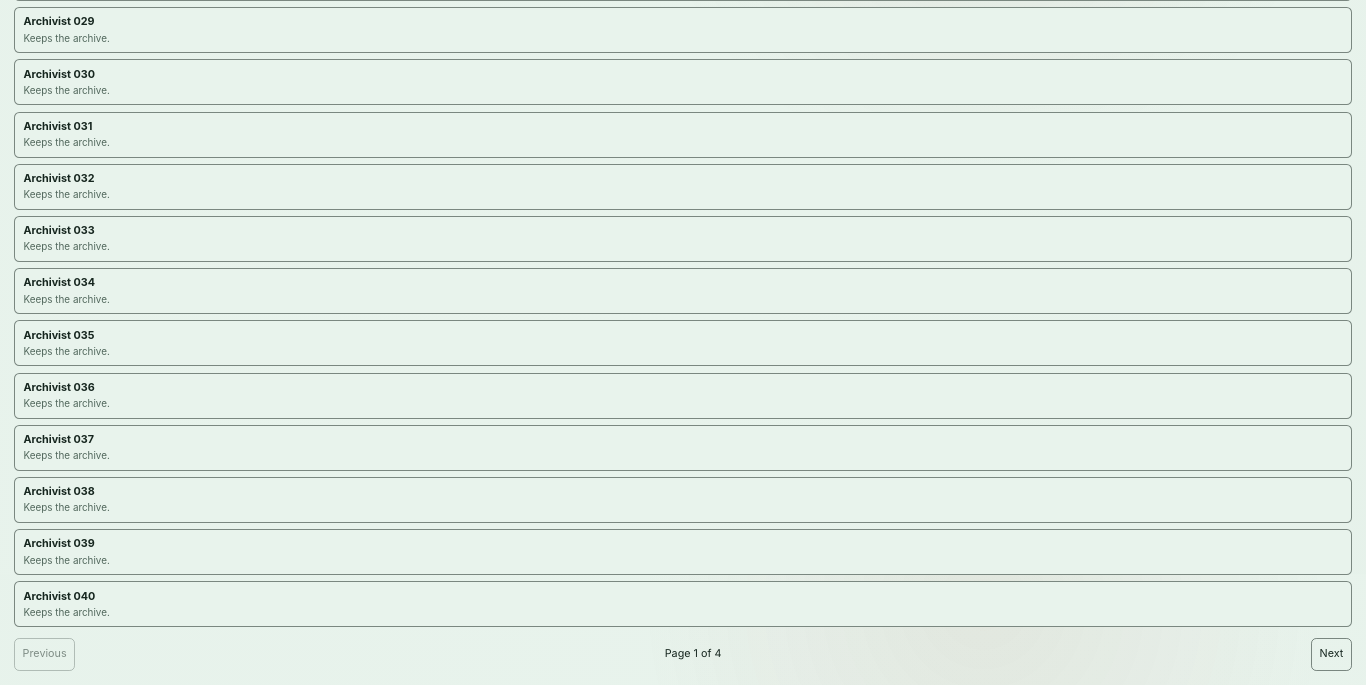
Test: Manuscript Catalogue › makes every large-collection entry reachable and searchable
(page scrolled)
expect the text "Archivist 125" is not shown: met
Click the button "Next". click: (1332, 654)
box: [1311,638,1352,671]
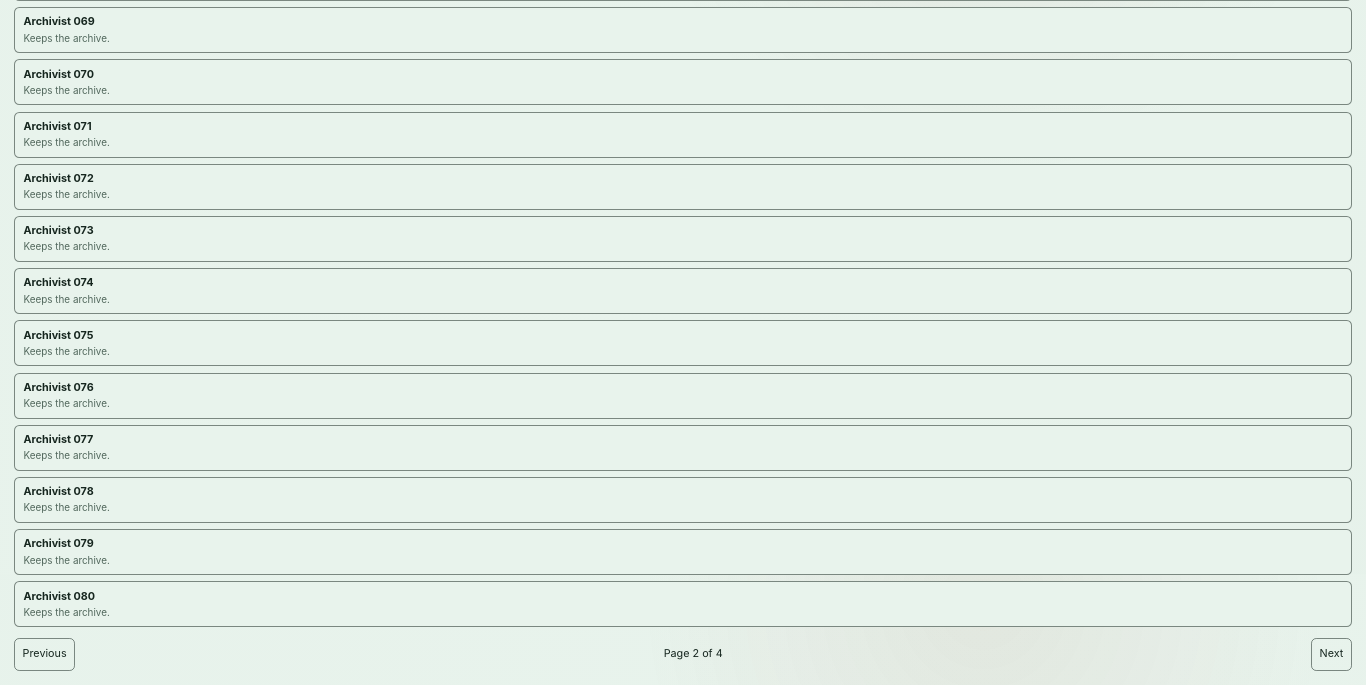
Click the button "Next". click: (1332, 654)
box: [1311,638,1352,671]
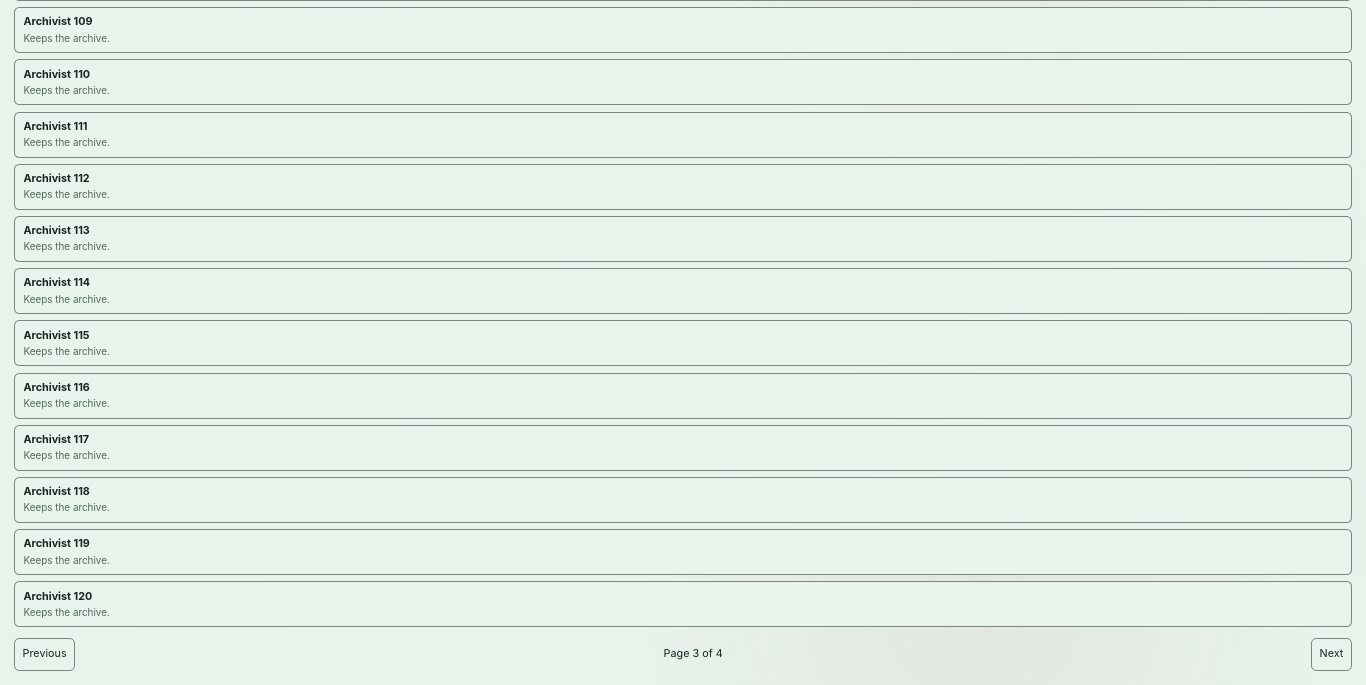
Click the button "Next". click: (1332, 654)
box: [1311,638,1352,671]
(page scrolled)
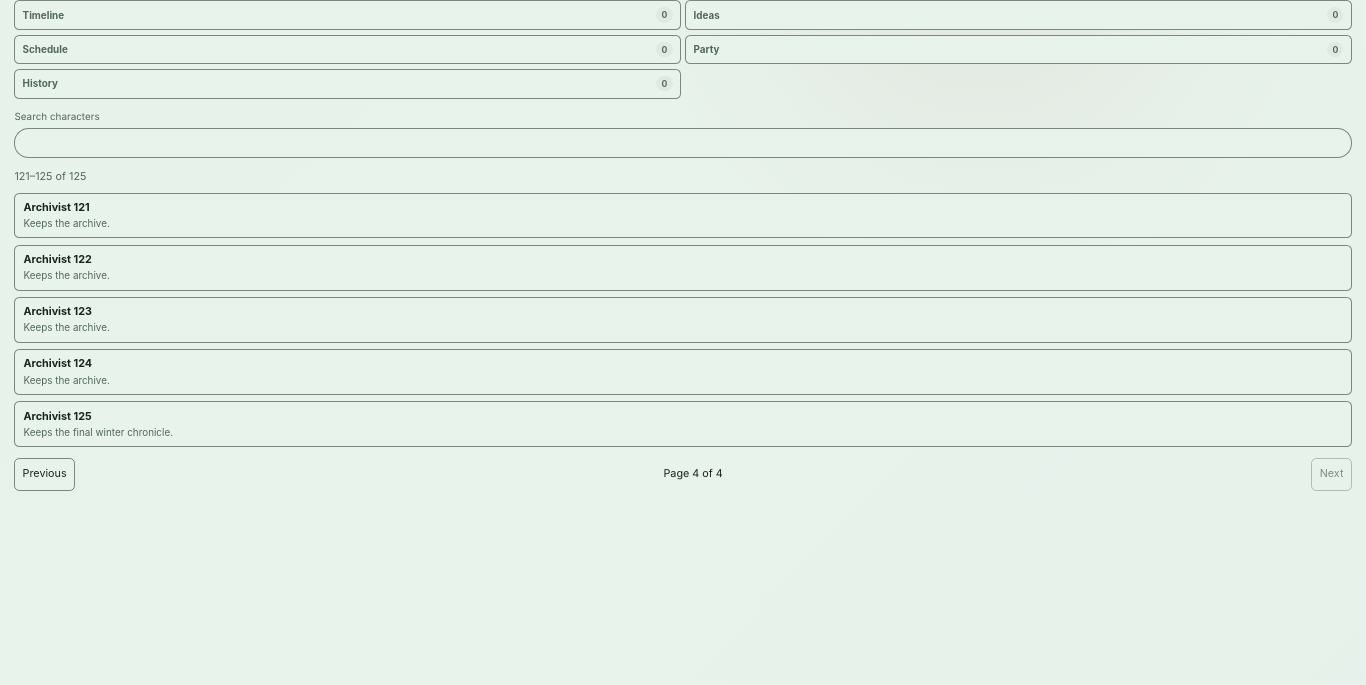
expect the text "121–125 of 125" is shown: met, box [14,170,86,183]
expect the text "Archivist 125" is shown: met, box [24,410,92,423]
expect the text "Keeps the final winter chronicle." is shown: met, box [24,426,173,438]
Type "Archivist 125" into the search field labelled "Search characters". click: (683, 143)
box: [14,128,1352,158]
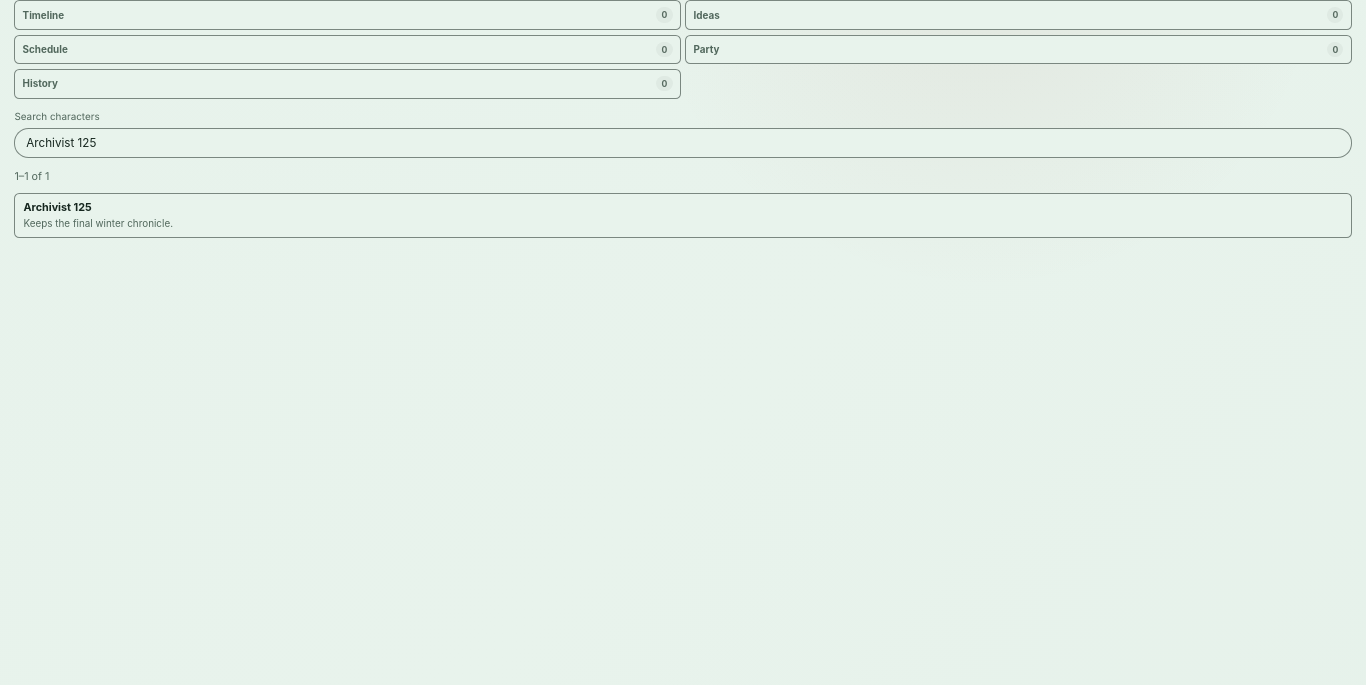
expect the text "Archivist 125" is shown: met, box [24,201,92,214]
expect the text "1–1 of 1" is shown: met, box [14,170,50,183]
